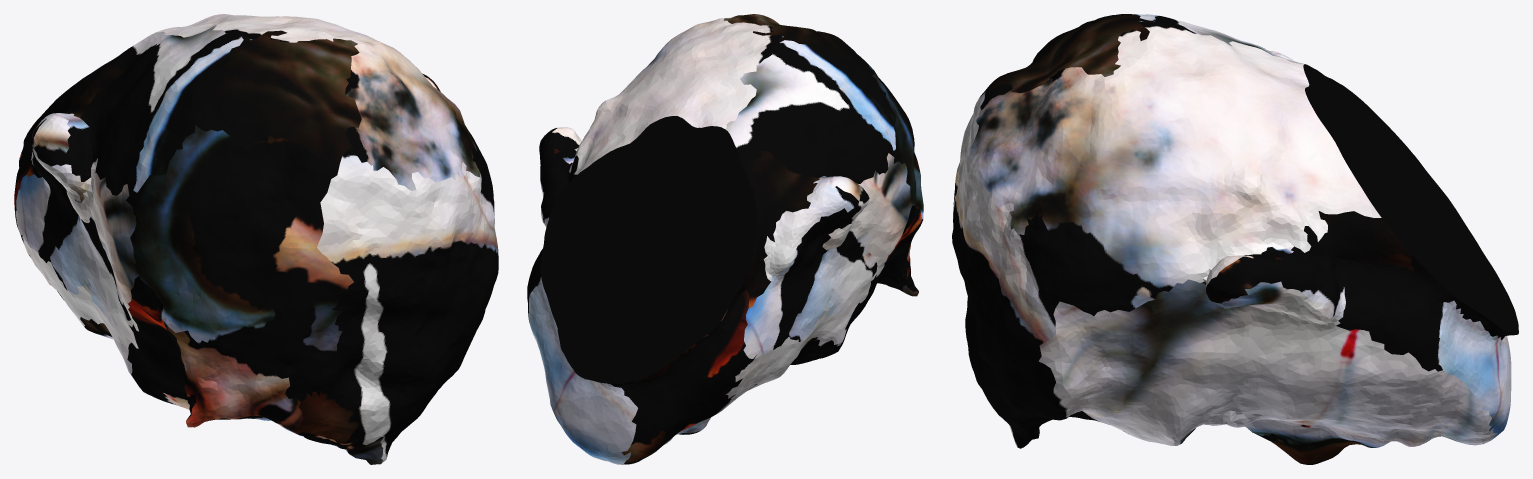
The model's file is Texturasssuntitled.obj.
The picture shows the model from 3 angles, left to right: view 1: azimuth 30°, elevation 25°; view 2: azimuth 150°, elevation 25°; view 3: azimuth 270°, elevation 25°; orthographic projection. The views are drawn at different scales.
Parts seen in each view (by area): view 1: Object.1; view 2: Object.1; view 3: Object.1.
Boxes of the visible parts, bbox=[...] form: Object.1: bbox=[14, 14, 498, 464]; Object.1: bbox=[527, 14, 923, 464]; Object.1: bbox=[952, 14, 1518, 464].
Size of the model in its own units: 799 by 826 by 998.
Materials: 1 (1 with a texture image).
